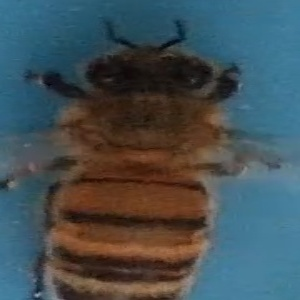bee: (12, 16, 283, 300)
